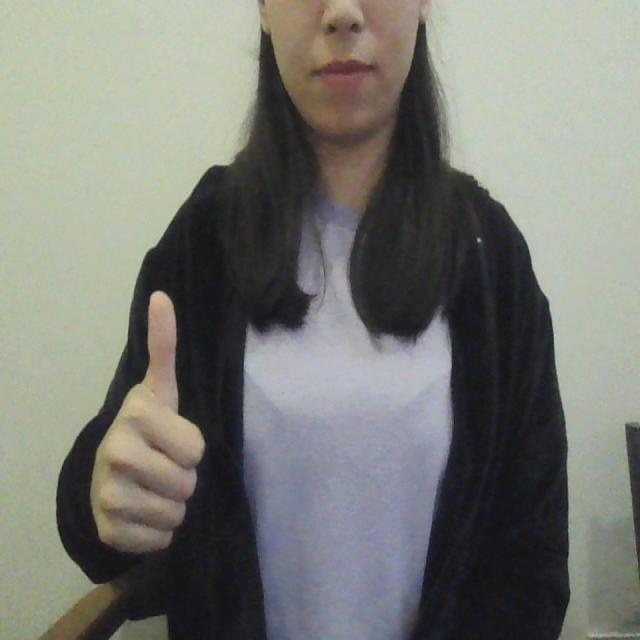Tamam: (82, 281, 214, 564)
